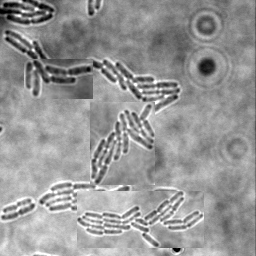Dividing: (1, 204, 37, 222), (3, 199, 33, 215)
Microcolony: (77, 191, 204, 248), (87, 59, 181, 136), (90, 102, 155, 185), (24, 59, 93, 99), (5, 30, 52, 72), (1, 1, 56, 26)
